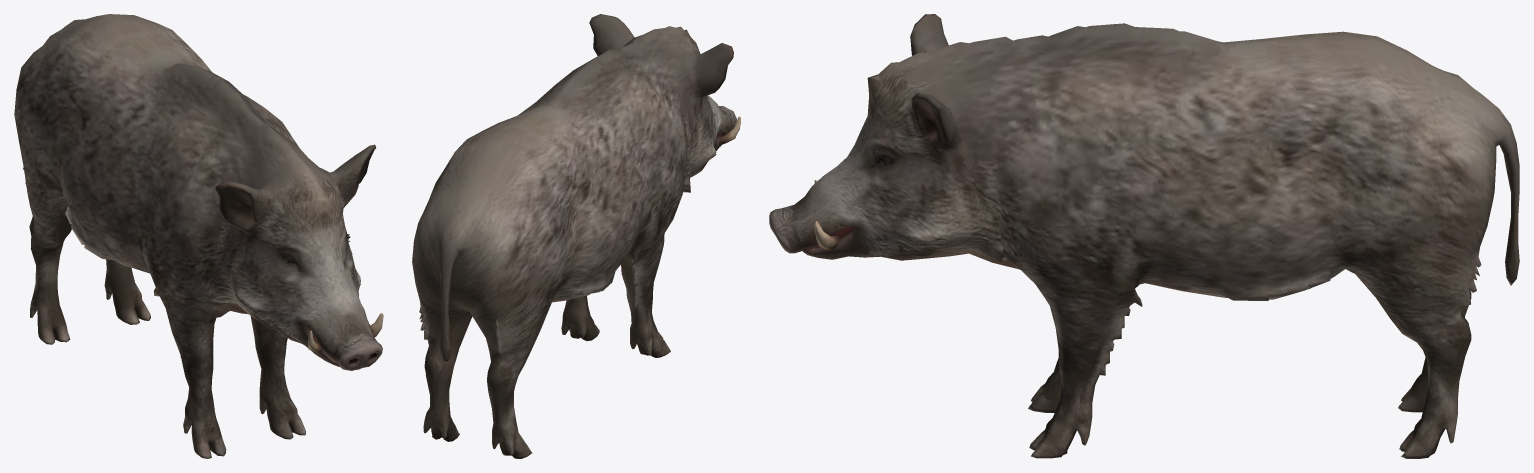
The model's file is javaporco_adulto.glb.
3 renders of one model, left to right at view 1: azimuth 30°, elevation 25°; view 2: azimuth 150°, elevation 25°; view 3: azimuth 270°, elevation 25°, orthographic. The views are drawn at different scales.
Visible parts, largest first — view 1: Javaporco adulto; view 2: Javaporco adulto; view 3: Javaporco adulto.
Boxes of the visible parts, left/top/right/bottom form: Javaporco adulto: left=14, top=14, right=383, bottom=458; Javaporco adulto: left=412, top=14, right=740, bottom=458; Javaporco adulto: left=769, top=14, right=1519, bottom=458.
Size of the model in its own units: 0.2949 by 0.5957 by 0.998.
Materials: 1 (1 with a texture image).
